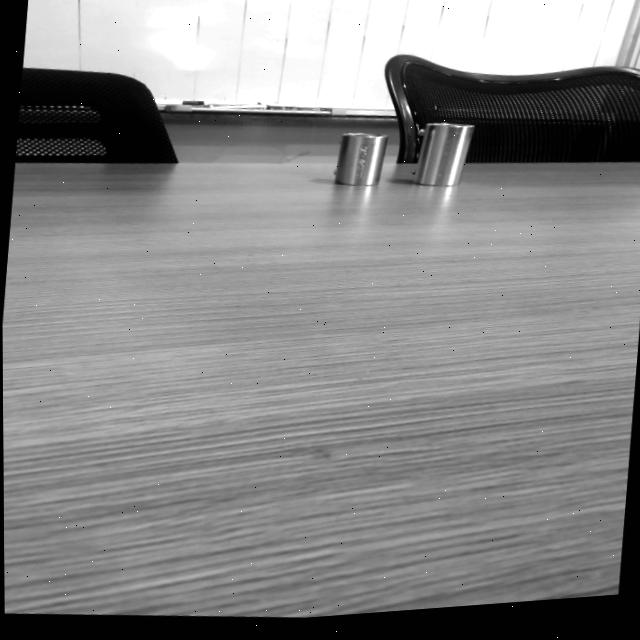Co_Lon: (411, 113, 474, 192)
Co_Nho: (332, 127, 387, 190)
